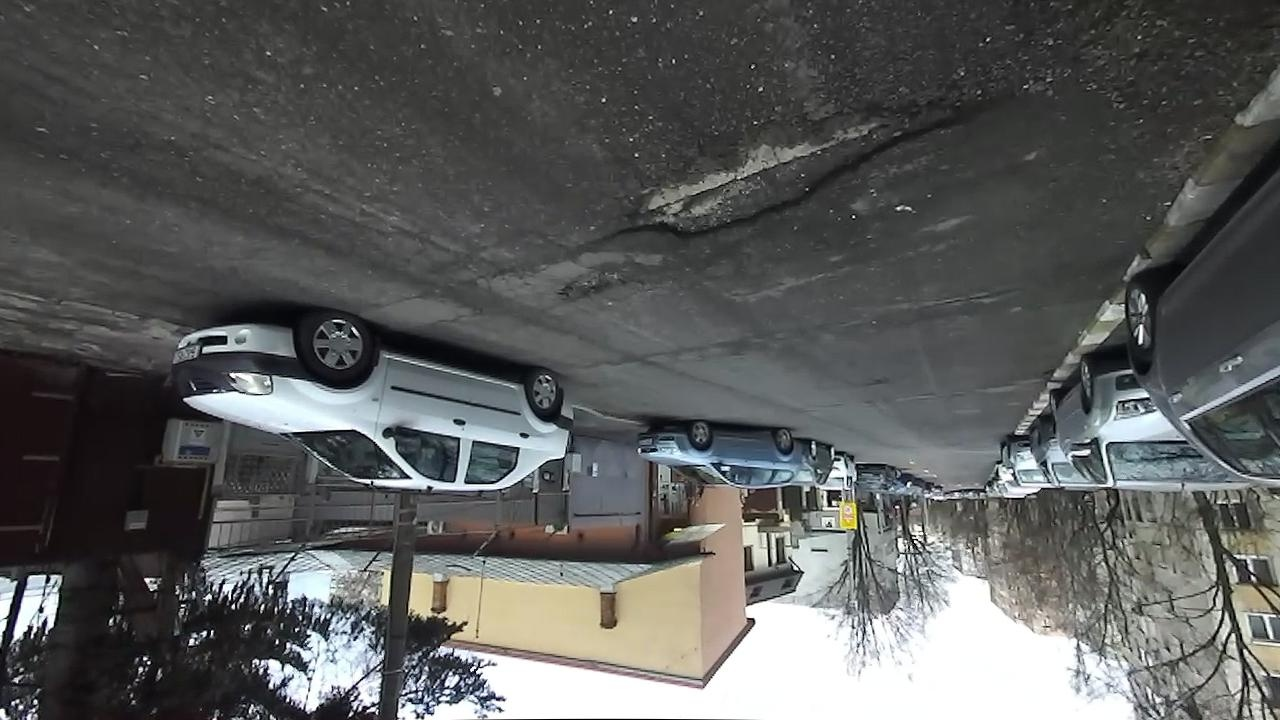pothole: (590, 90, 1000, 248), (547, 266, 640, 309), (916, 285, 1001, 317)
